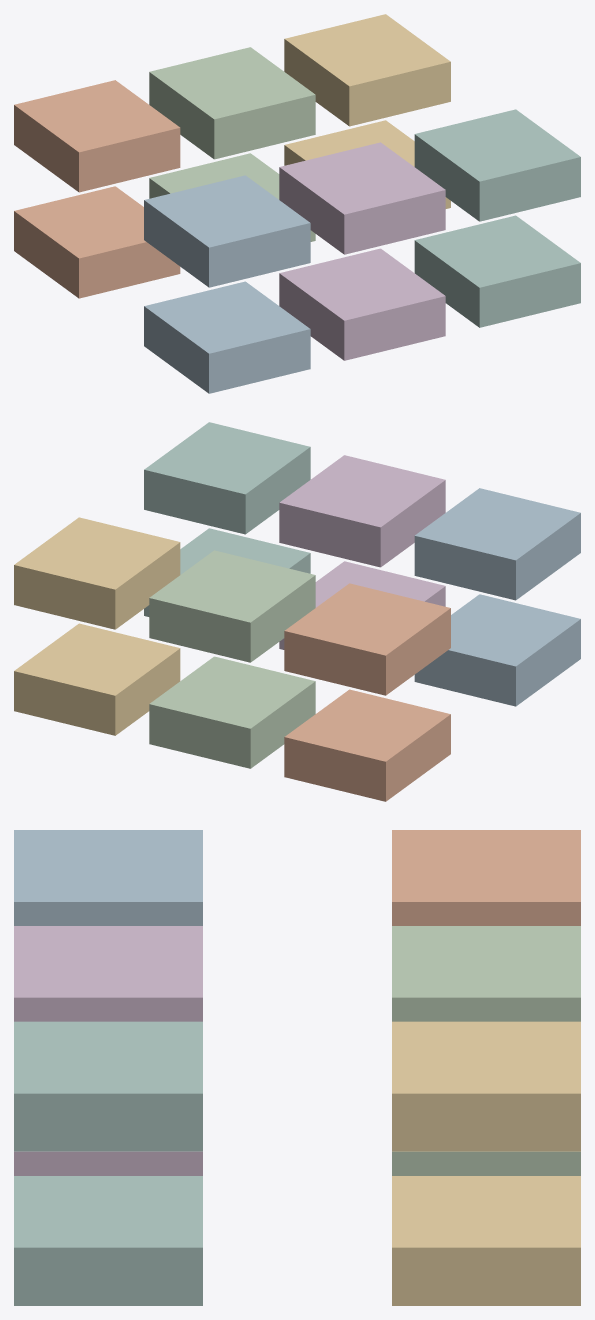
The model's file is shopping-demo.gltf.
3 views of the same model, one above another, from view 1: azimuth 30°, elevation 25°; view 2: azimuth 150°, elevation 25°; view 3: azimuth 270°, elevation 25° (orthographic). The views are drawn at different scales.
Parts seen in each view (by area): view 1: Mesa Viva, Sabor de Casa, Passo Leve, Casa Cerrado, Universo Geek, Pausa Verde, Livraria Horizonte, Ateliê Íris, Pequenos Mundos, Aurora, Café do Sol, Folha & Forma; view 2: Sabor de Casa, Mesa Viva, Aurora, Folha & Forma, Café do Sol, Livraria Horizonte, Pausa Verde, Pequenos Mundos, Ateliê Íris, Passo Leve, Universo Geek, Casa Cerrado; view 3: Ateliê Íris, Pequenos Mundos, Café do Sol, Universo Geek, Mesa Viva, Livraria Horizonte, Sabor de Casa, Pausa Verde, Folha & Forma, Casa Cerrado.
Boxes of the visible parts, <box> form: Mesa Viva: <box>14,80,180,192</box>; Sabor de Casa: <box>144,175,310,287</box>; Passo Leve: <box>144,281,310,393</box>; Casa Cerrado: <box>279,248,445,360</box>; Universo Geek: <box>414,215,580,327</box>; Pausa Verde: <box>279,142,445,254</box>; Livraria Horizonte: <box>149,47,315,159</box>; Ateliê Íris: <box>284,14,450,126</box>; Pequenos Mundos: <box>414,109,580,221</box>; Aurora: <box>14,186,180,298</box>; Café do Sol: <box>284,120,450,208</box>; Folha & Forma: <box>149,153,315,241</box>; Sabor de Casa: <box>414,488,580,600</box>; Mesa Viva: <box>284,583,450,695</box>; Aurora: <box>284,689,450,801</box>; Folha & Forma: <box>149,656,315,768</box>; Café do Sol: <box>14,623,180,735</box>; Livraria Horizonte: <box>149,550,315,662</box>; Pausa Verde: <box>279,455,445,567</box>; Pequenos Mundos: <box>144,422,310,534</box>; Ateliê Íris: <box>14,517,180,629</box>; Passo Leve: <box>414,594,580,706</box>; Universo Geek: <box>144,528,310,616</box>; Casa Cerrado: <box>279,561,445,649</box>; Ateliê Íris: <box>392,1021,580,1151</box>; Pequenos Mundos: <box>14,1021,202,1151</box>; Café do Sol: <box>392,1176,580,1305</box>; Universo Geek: <box>14,1176,202,1305</box>; Mesa Viva: <box>392,830,580,925</box>; Livraria Horizonte: <box>392,926,580,1021</box>; Sabor de Casa: <box>14,830,202,925</box>; Pausa Verde: <box>14,926,202,1021</box>; Folha & Forma: <box>392,1151,580,1175</box>; Casa Cerrado: <box>14,1151,202,1175</box>.
Size of the model in its own units: 33 by 12.4 by 30.
